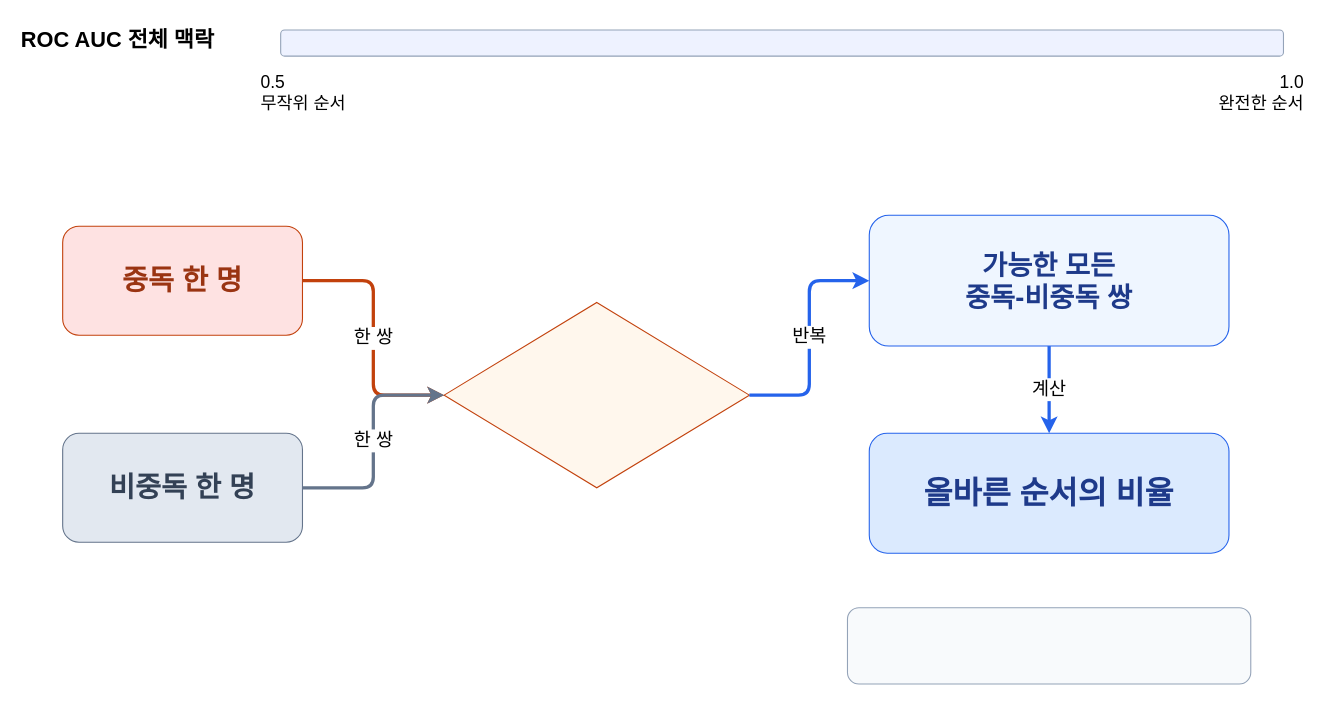
Some shapes in this 1323 by 703 pixel diagram are drawn without their labels. Here are the shapes that lost their labels. From the top down, the centre of each, then its label:
At point 596,394: "누구에게 더 높은 위험도를 주었는가?".
At point 1048,645: "정답 문턱 하나의 정확도가 아닙니다".
